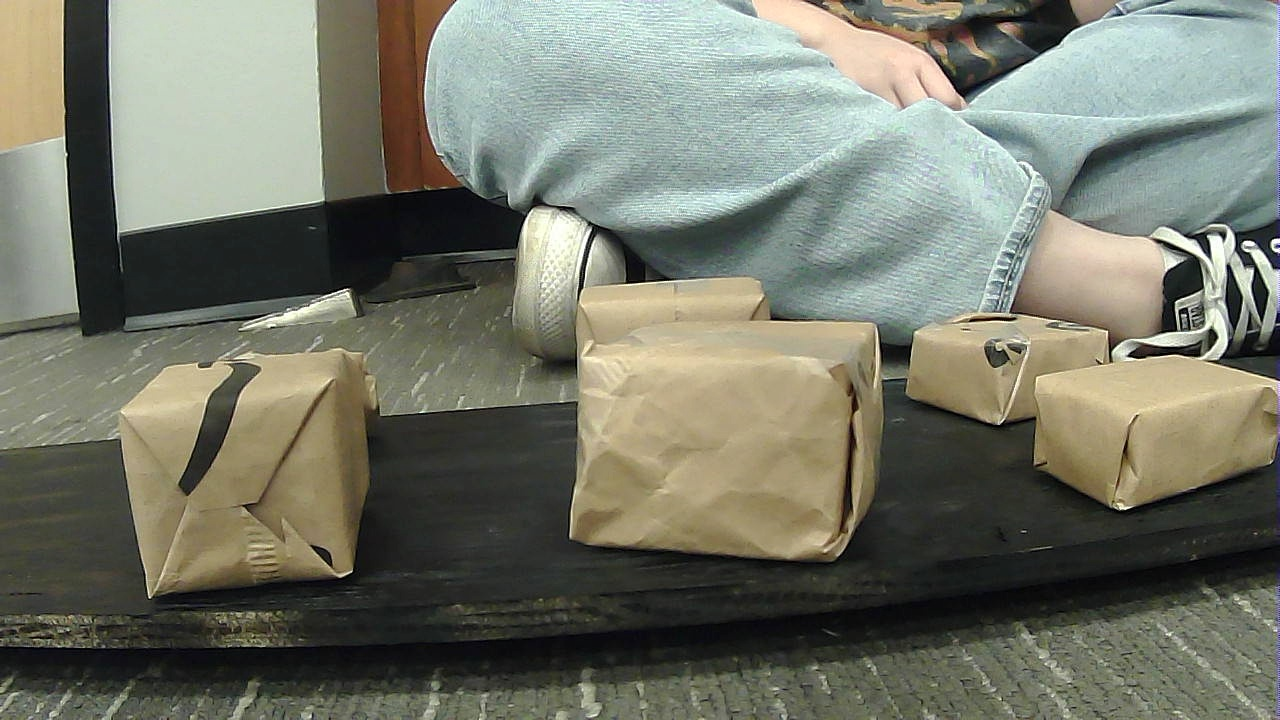package: (575, 324, 896, 566), (141, 353, 368, 577), (1018, 355, 1278, 507), (568, 277, 792, 441), (920, 298, 1130, 419)
